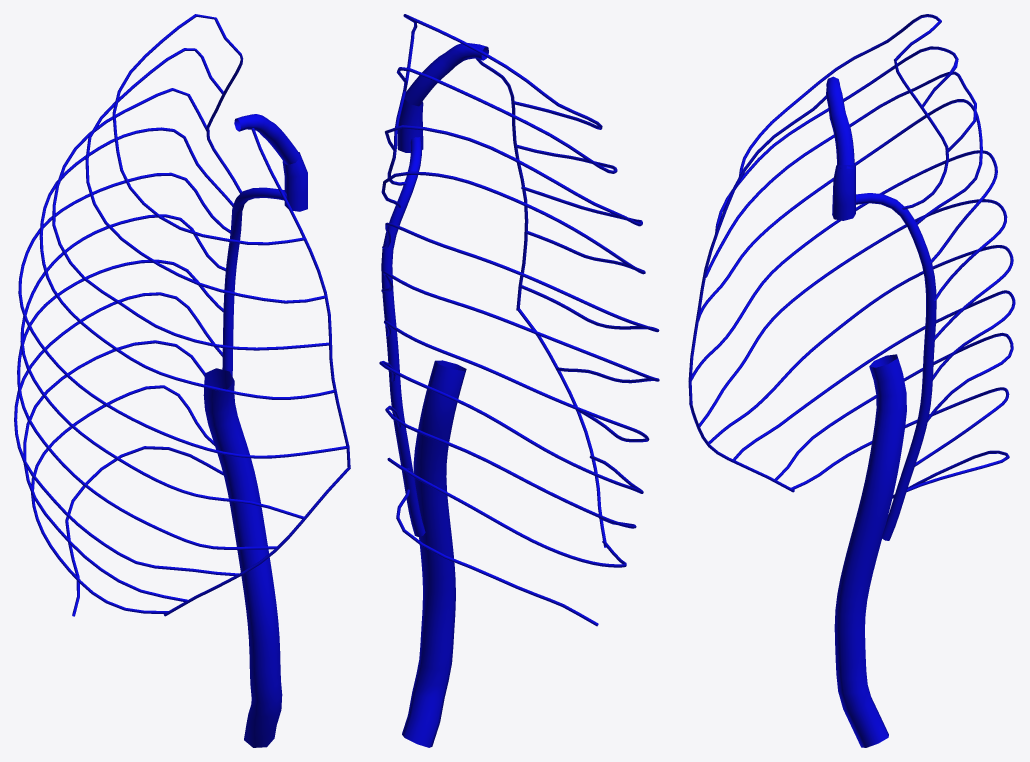
The model's file is Thorax veins.fbx.
The picture shows the model from 3 angles, left to right: view 1: azimuth 30°, elevation 25°; view 2: azimuth 150°, elevation 25°; view 3: azimuth 270°, elevation 25°; orthographic projection. The views are drawn at different scales.
Visible parts, largest first — view 1: Intercostals, Inferior_vena_cava, Azygos_vena_azygos, internal_thoracic_mammary, Brachiocephalic_innominate, Superior_vena_cava, Musculophrenic, Superior_intercostal; view 2: Intercostals, Inferior_vena_cava, Azygos_vena_azygos, Brachiocephalic_innominate, Superior_vena_cava, internal_thoracic_mammary, Musculophrenic, Superior_intercostal; view 3: Intercostals, Inferior_vena_cava, Azygos_vena_azygos, Brachiocephalic_innominate, internal_thoracic_mammary, Superior_vena_cava, Superior_intercostal.
Boxes of the visible parts, left/top/right/bottom form: Intercostals: left=14, top=14, right=348, bottom=616; Inferior_vena_cava: left=203, top=368, right=282, bottom=747; Azygos_vena_azygos: left=222, top=187, right=287, bottom=376; internal_thoracic_mammary: left=251, top=128, right=350, bottom=467; Brachiocephalic_innominate: left=234, top=114, right=301, bottom=164; Superior_vena_cava: left=282, top=152, right=307, bottom=211; Musculophrenic: left=163, top=467, right=350, bottom=616; Superior_intercostal: left=206, top=54, right=243, bottom=193; Intercostals: left=379, top=14, right=659, bottom=626; Inferior_vena_cava: left=402, top=360, right=466, bottom=747; Azygos_vena_azygos: left=381, top=137, right=425, bottom=536; Brachiocephalic_innominate: left=404, top=43, right=488, bottom=106; Superior_vena_cava: left=397, top=99, right=423, bottom=152; internal_thoracic_mammary: left=475, top=58, right=528, bottom=310; Musculophrenic: left=518, top=308, right=606, bottom=547; Superior_intercostal: left=387, top=26, right=416, bottom=185; Intercostals: left=691, top=14, right=1015, bottom=498; Inferior_vena_cava: left=834, top=354, right=906, bottom=747; Azygos_vena_azygos: left=856, top=193, right=936, bottom=540; Brachiocephalic_innominate: left=826, top=76, right=854, bottom=168; internal_thoracic_mammary: left=688, top=95, right=826, bottom=405; Superior_vena_cava: left=832, top=165, right=855, bottom=220; Superior_intercostal: left=894, top=59, right=948, bottom=209.
Bounding box in the file's own units: 14.73 × 39.99 × 16.64.
